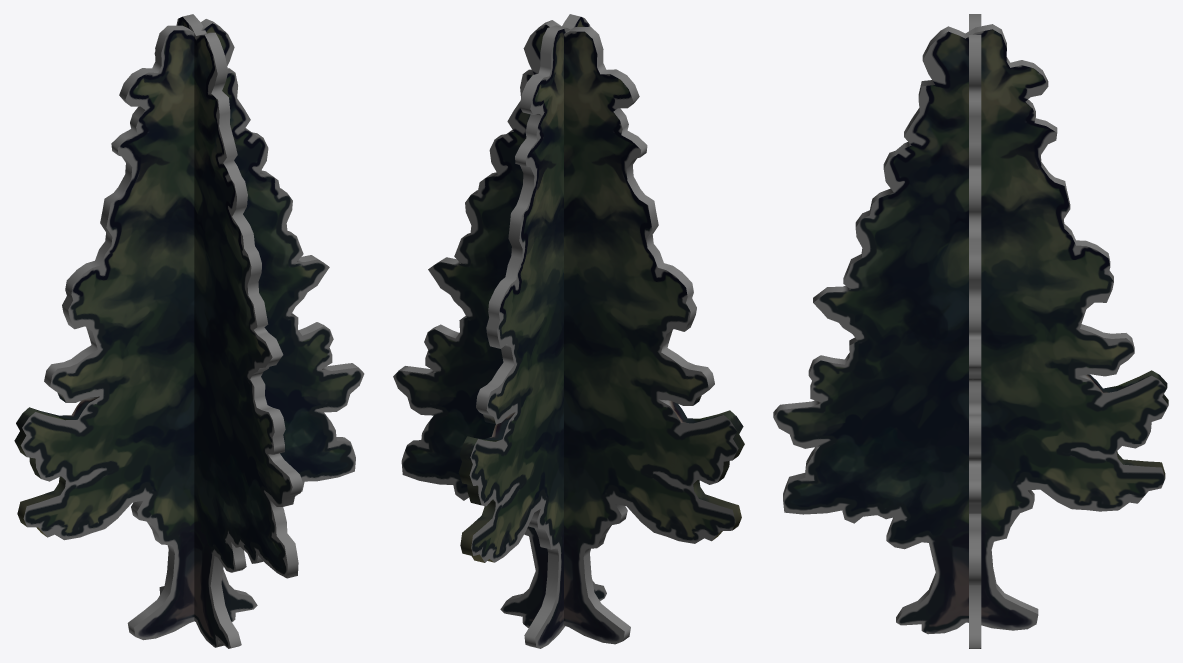
File: PROP_TreePine.fbx
3 renders of one model, left to right at view 1: azimuth 30°, elevation 25°; view 2: azimuth 150°, elevation 25°; view 3: azimuth 270°, elevation 25°, orthographic.
Visible parts, largest first — view 1: PROP_Tree2; view 2: PROP_Tree2; view 3: PROP_Tree2.
Boxes of the visible parts, x1,y1,x2,y2 form: PROP_Tree2: (14,14,364,648); PROP_Tree2: (393,14,744,648); PROP_Tree2: (773,14,1168,648).
Size of the model in its own units: 610 by 1030 by 610.
